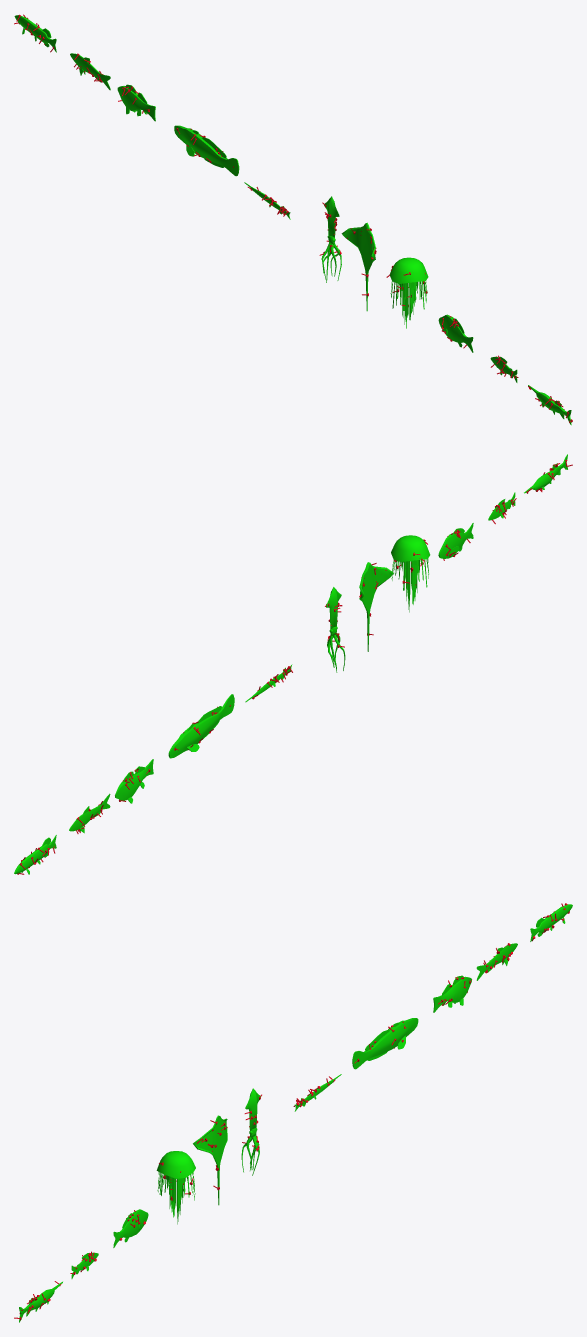
File: fish_bolts.fbx
3 renders of one model, top to bottom at view 1: azimuth 30°, elevation 25°; view 2: azimuth 150°, elevation 25°; view 3: azimuth 330°, elevation 25°, orthographic.
Parts seen in each view (by area): view 1: fish_bolts.010, fish_bolts.006, fish_bolts.003, fish_bolts.004, fish_bolts.007, fish_bolts.002; view 2: fish_bolts.010, fish_bolts.006, fish_bolts.003, fish_bolts.007, fish_bolts.004, fish_bolts.002; view 3: fish_bolts.010, fish_bolts.006, fish_bolts.003, fish_bolts.007, fish_bolts.004, fish_bolts.002, fish_bolts.009.
Boxes of the visible parts, left/top/right/bottom form: fish_bolts.010: left=390, top=257, right=428, bottom=328; fish_bolts.006: left=174, top=125, right=239, bottom=176; fish_bolts.003: left=341, top=222, right=375, bottom=311; fish_bolts.004: left=321, top=196, right=341, bottom=282; fish_bolts.007: left=117, top=84, right=155, bottom=121; fish_bolts.002: left=438, top=314, right=473, bottom=352; fish_bolts.010: left=391, top=535, right=430, bottom=612; fish_bolts.006: left=168, top=694, right=234, bottom=758; fish_bolts.003: left=359, top=562, right=393, bottom=651; fish_bolts.007: left=115, top=759, right=153, bottom=803; fish_bolts.004: left=326, top=587, right=345, bottom=672; fish_bolts.002: left=438, top=523, right=473, bottom=558; fish_bolts.010: left=156, top=1151, right=195, bottom=1224; fish_bolts.006: left=352, top=1018, right=418, bottom=1069; fish_bolts.003: left=193, top=1115, right=227, bottom=1205; fish_bolts.007: left=433, top=975, right=471, bottom=1012; fish_bolts.004: left=241, top=1088, right=260, bottom=1175; fish_bolts.002: left=113, top=1209, right=148, bottom=1247; fish_bolts.009: left=530, top=904, right=572, bottom=941.
Bounding box in the file's own units: 56.9 × 139 × 1551.
